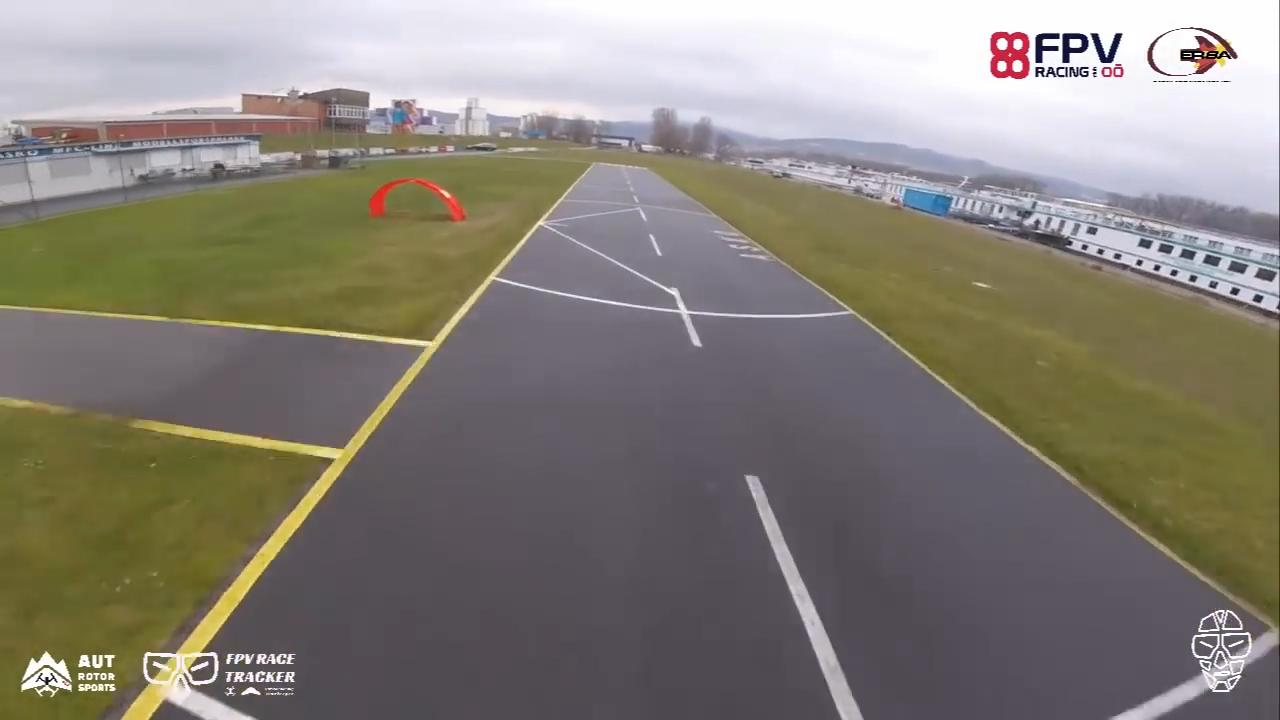gate: (366, 177, 466, 227)
